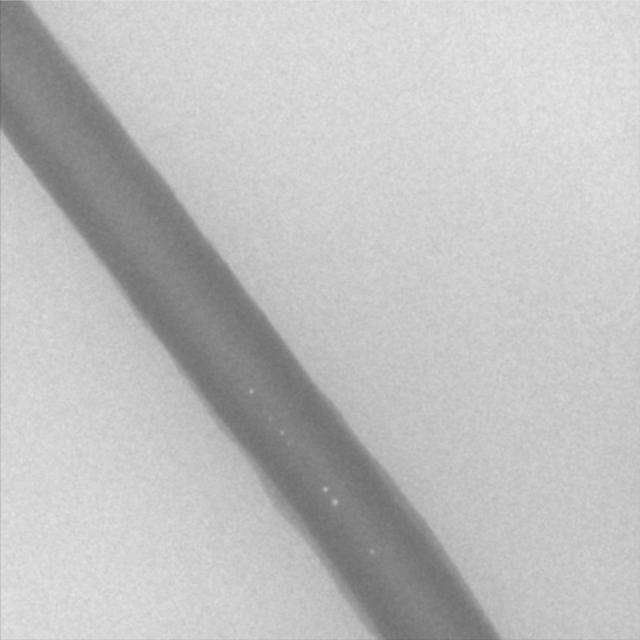air hole: (321, 482, 329, 493), (331, 497, 339, 507), (277, 427, 285, 437), (247, 386, 254, 396), (369, 548, 376, 556)
